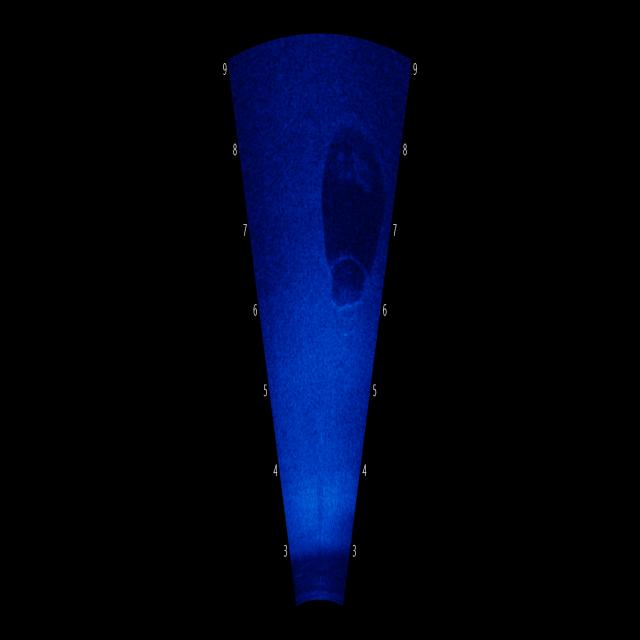circle: (312, 122, 396, 306)
